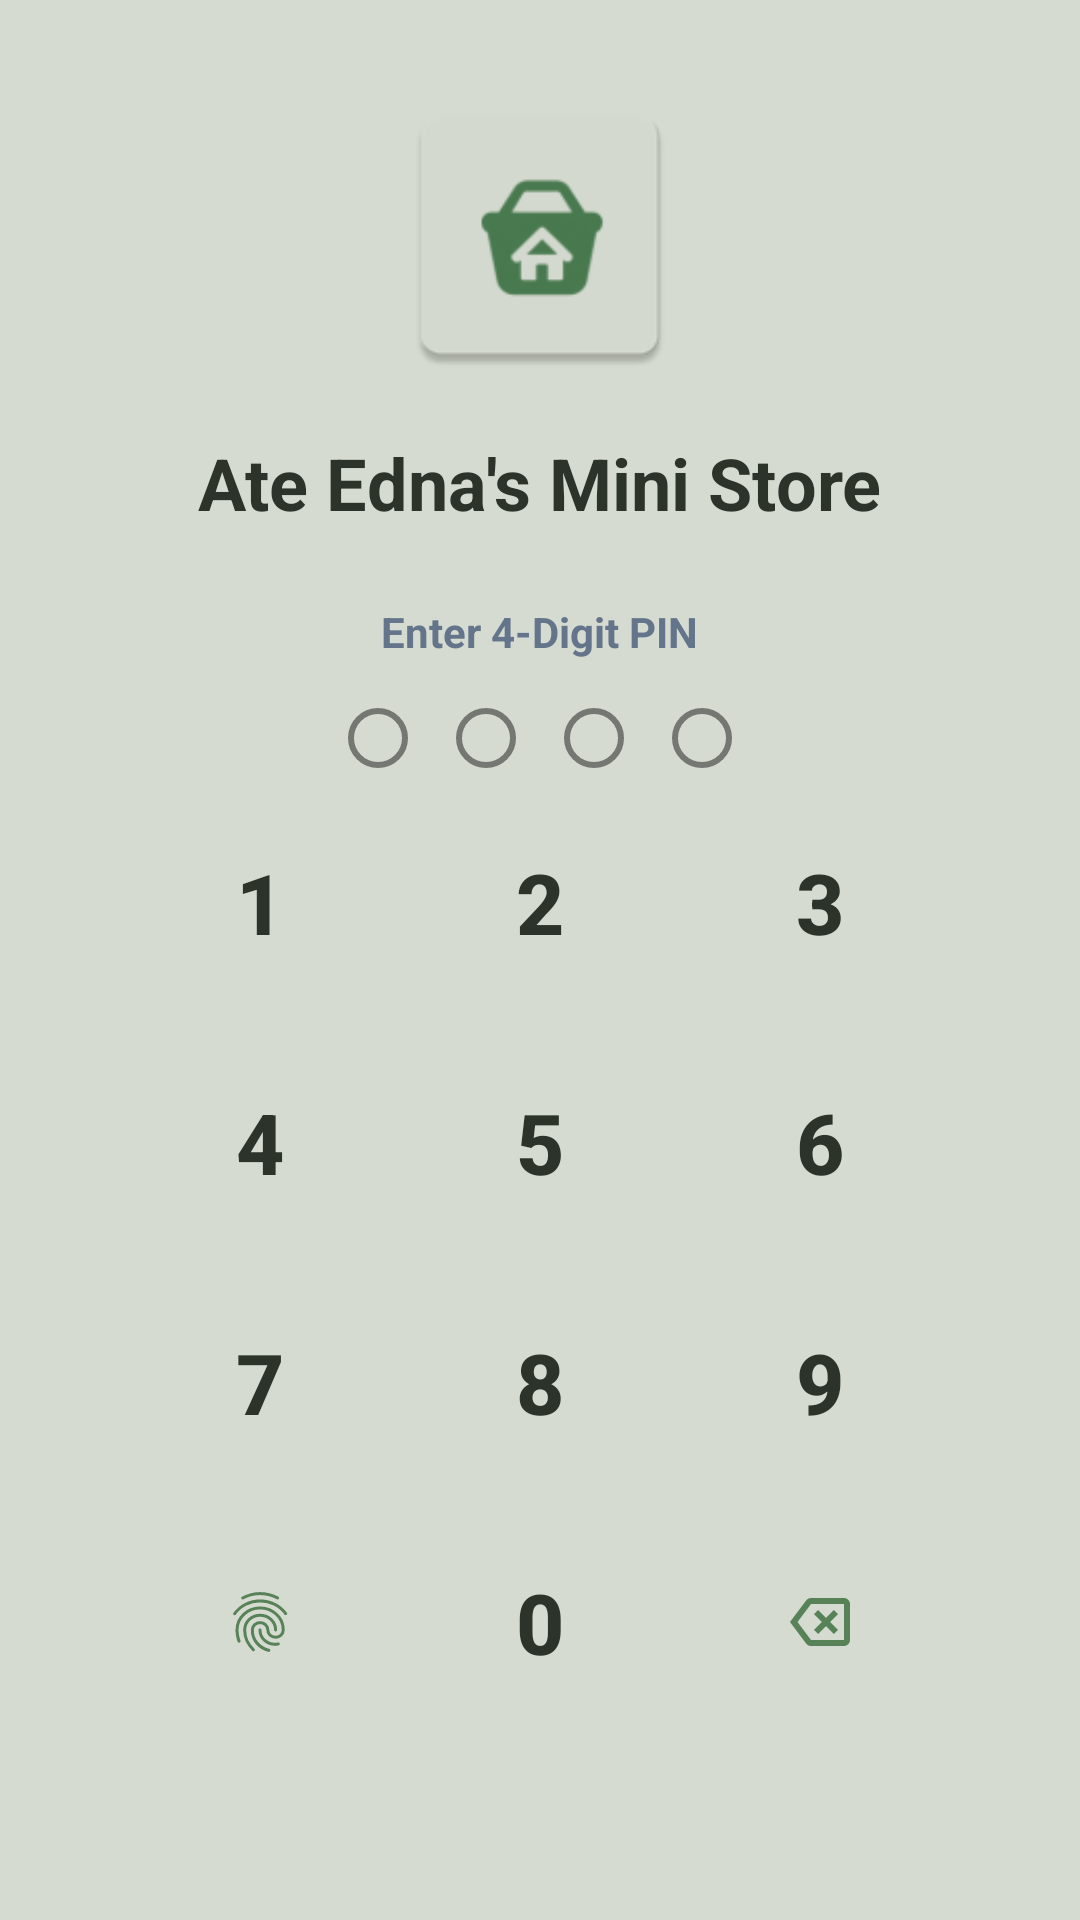

Icon click points for this 1080*1920 phone screenshot, format [x,y]:
backspace: [820,1622]
fingerprint: [260,1622]
